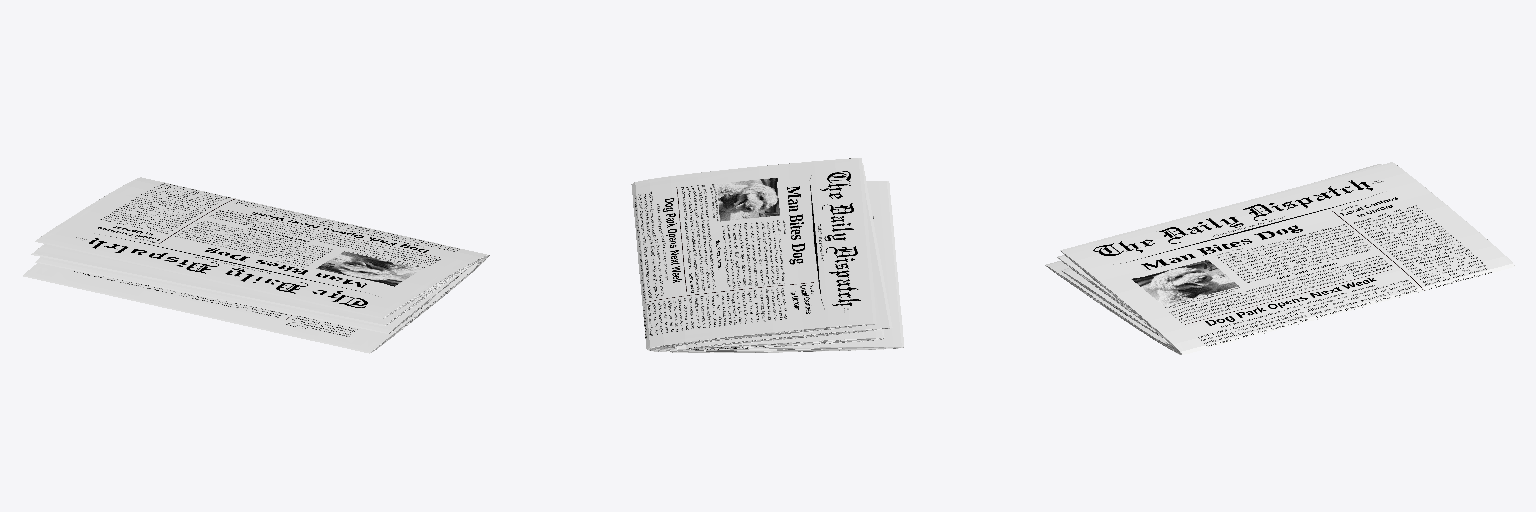
The picture shows the model from 3 angles: view 1: azimuth 30°, elevation 25°; view 2: azimuth 150°, elevation 25°; view 3: azimuth 270°, elevation 25°; orthographic projection.
Parts seen in each view (by area): view 1: Plane.001_Plane.005; view 2: Plane.001_Plane.005; view 3: Plane.001_Plane.005.
Boxes of the visible parts, x1=… form: Plane.001_Plane.005: x1=23, y1=177, x2=489, y2=353; Plane.001_Plane.005: x1=631, y1=158, x2=903, y2=352; Plane.001_Plane.005: x1=1045, y1=162, x2=1514, y2=354.
Bounding box in the file's own units: 1.1 × 0.077 × 1.22.
Materials: 1 (1 with a texture image).